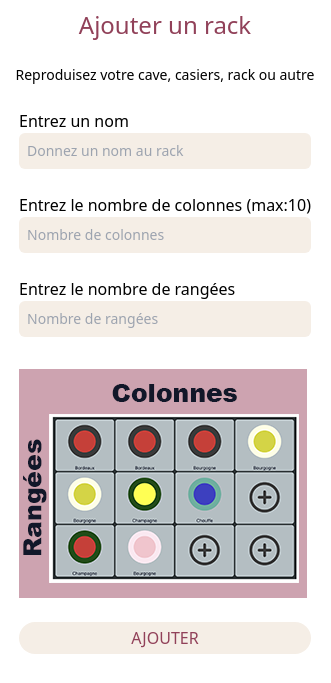
Test: AddRackPage › affiche Le nom du rack est requis quand input vide
The image size is (331, 683).
Click the button "AJOUTER" at (165, 638), box [19,622,311,654]
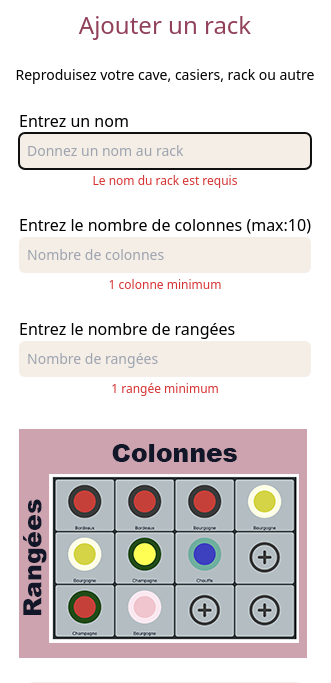
Result: the text "Le nom du rack est requis" is shown at [92,172,237,189]
